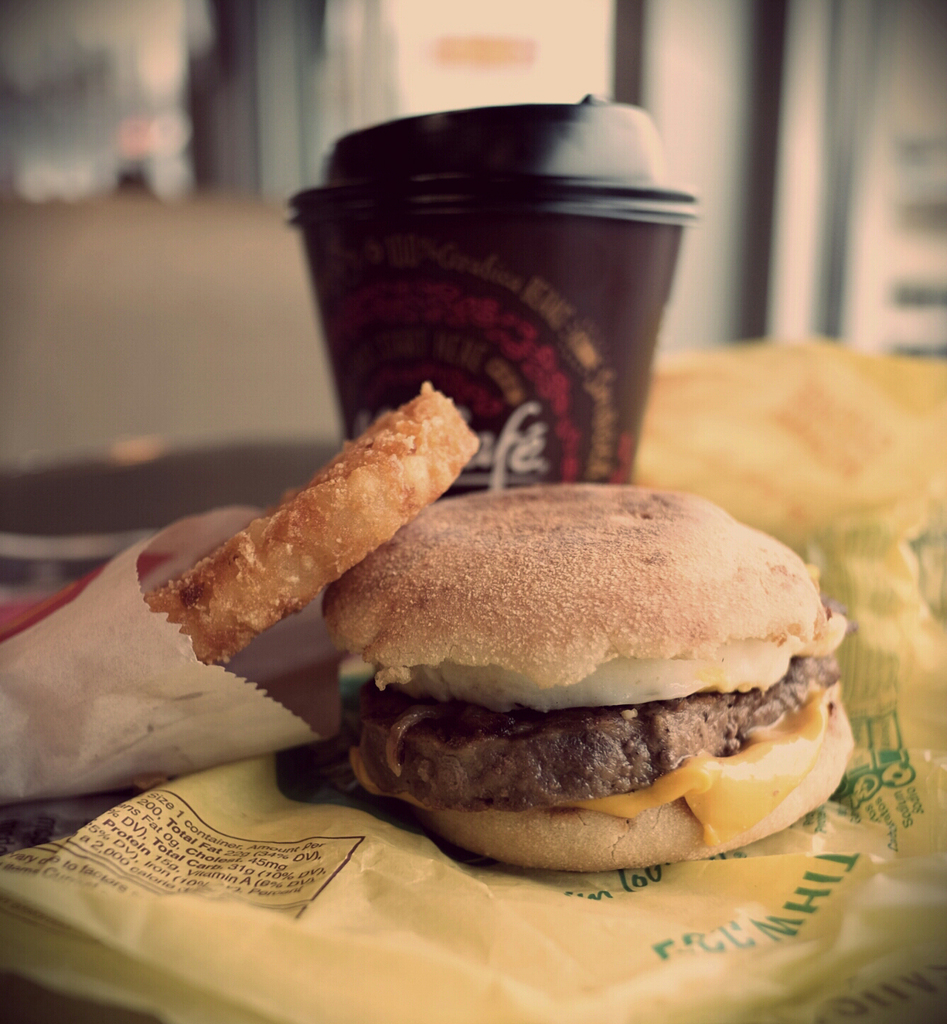Hamburger: (322, 480, 851, 871)
